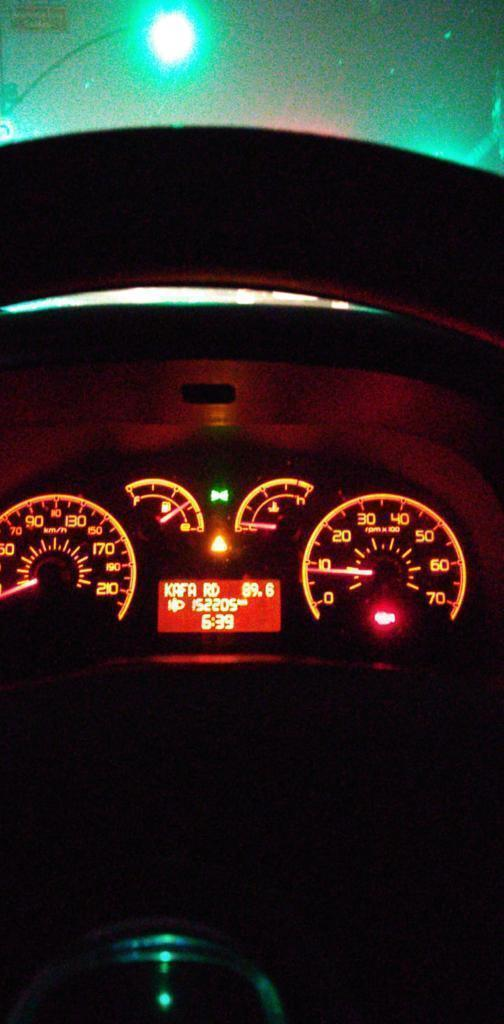,: (258, 591, 263, 597)
0: (220, 597, 229, 612)
1: (166, 598, 171, 613), (190, 598, 195, 611)
2: (203, 598, 212, 612), (212, 597, 220, 611)
3: (215, 614, 224, 629)
5: (230, 597, 237, 612), (196, 597, 202, 611)
6: (264, 581, 275, 598), (200, 613, 211, 630)
8: (242, 582, 250, 597)
9: (224, 613, 234, 629), (250, 582, 258, 597)
X: (211, 581, 220, 597), (187, 582, 196, 597), (163, 581, 171, 597), (179, 582, 187, 597), (203, 582, 211, 597), (172, 582, 179, 597), (211, 615, 214, 627)
odometer: (157, 578, 283, 633)
